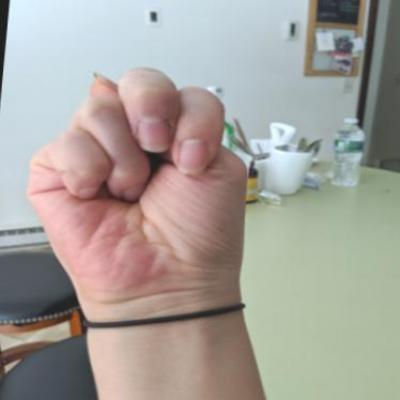hand: (12, 56, 267, 325)
